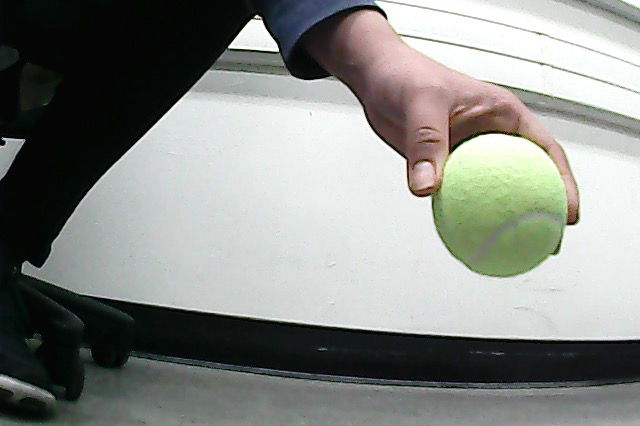ball: (430, 129, 576, 283)
